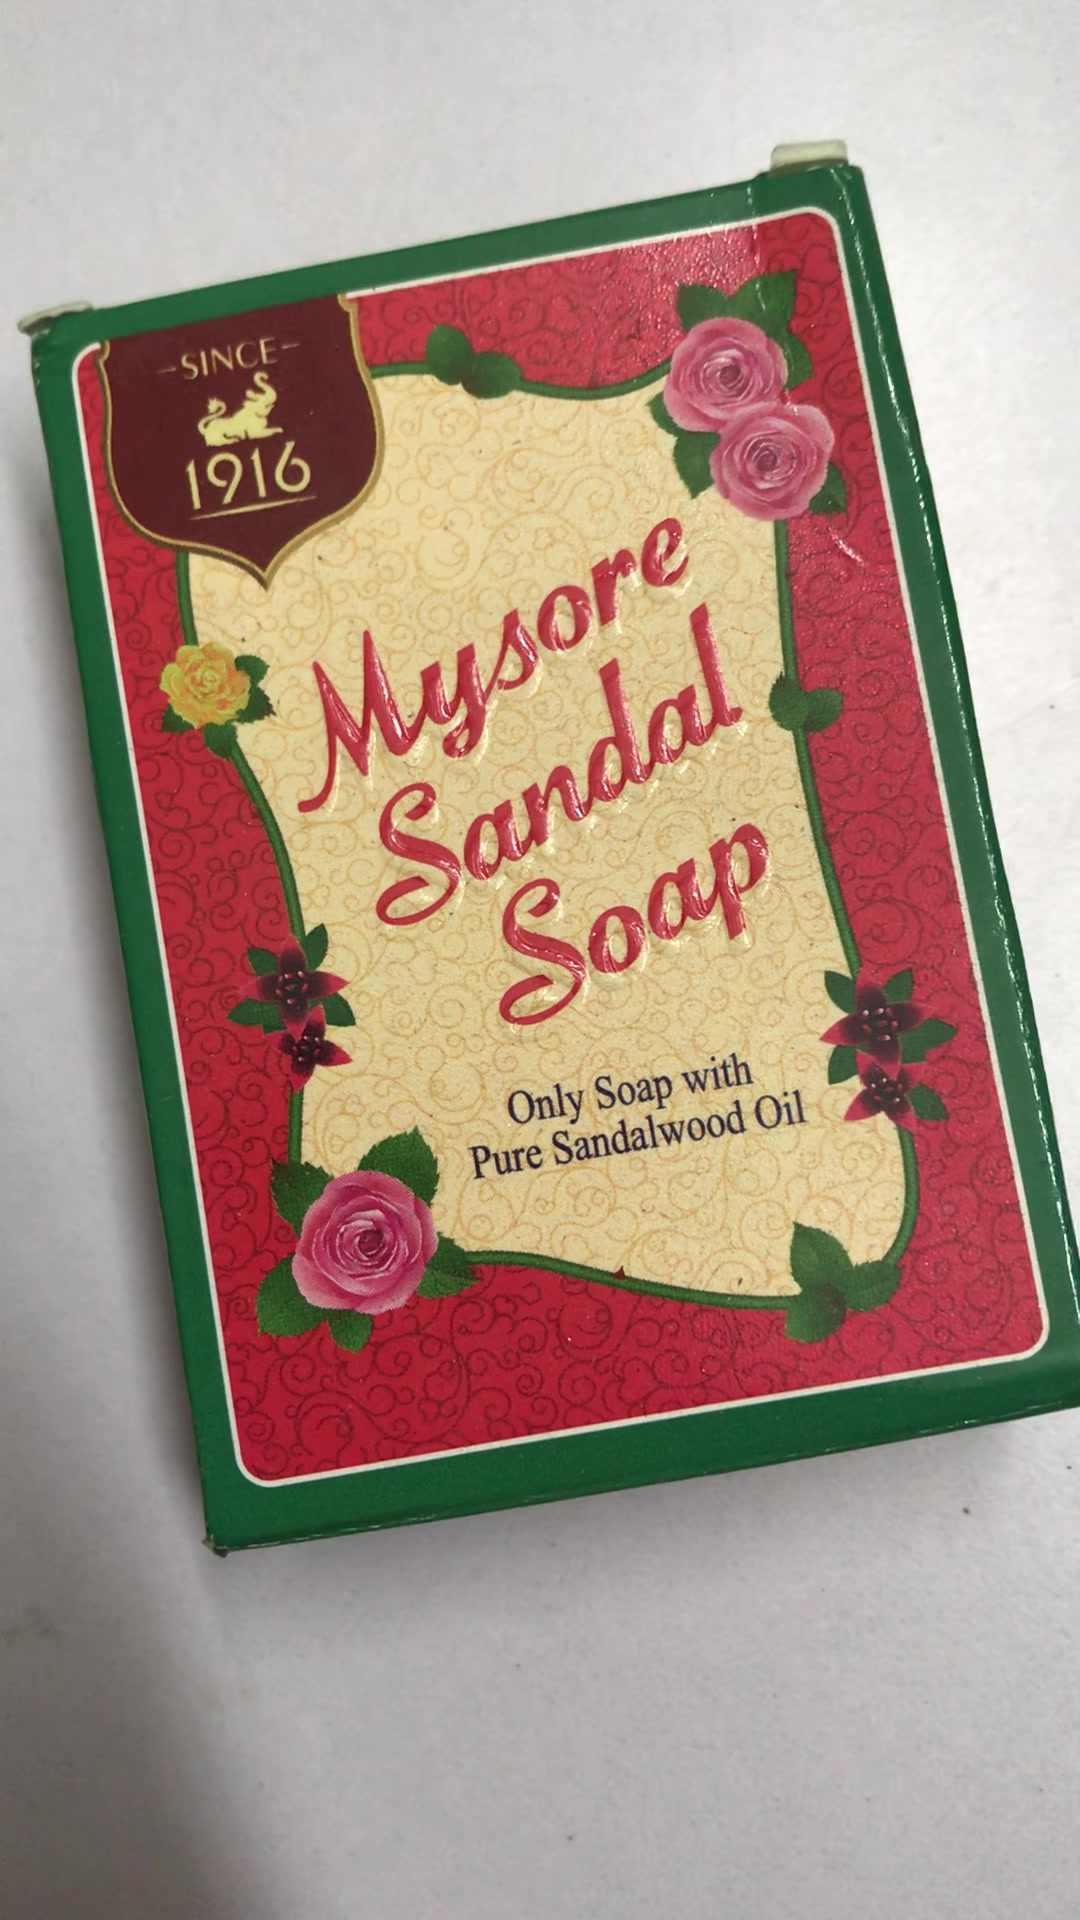mysore sandal soap: (26, 146, 1076, 1552)
